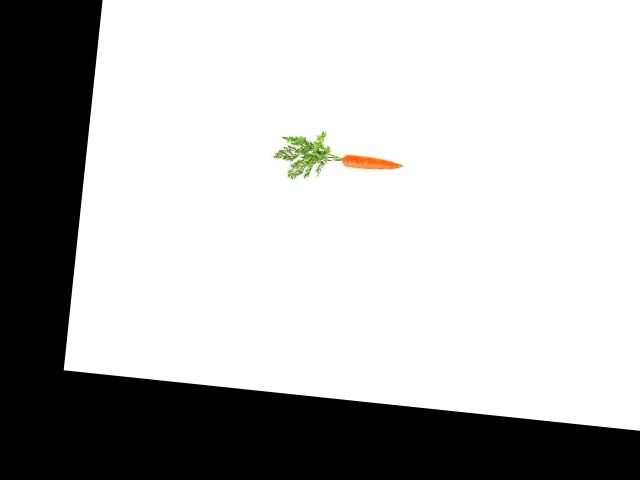carrot: (339, 150, 406, 173)
